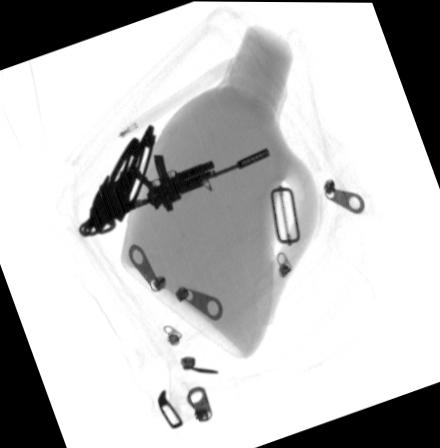Gun: (111, 145, 274, 218)
HandCuffs: (75, 121, 158, 239)
